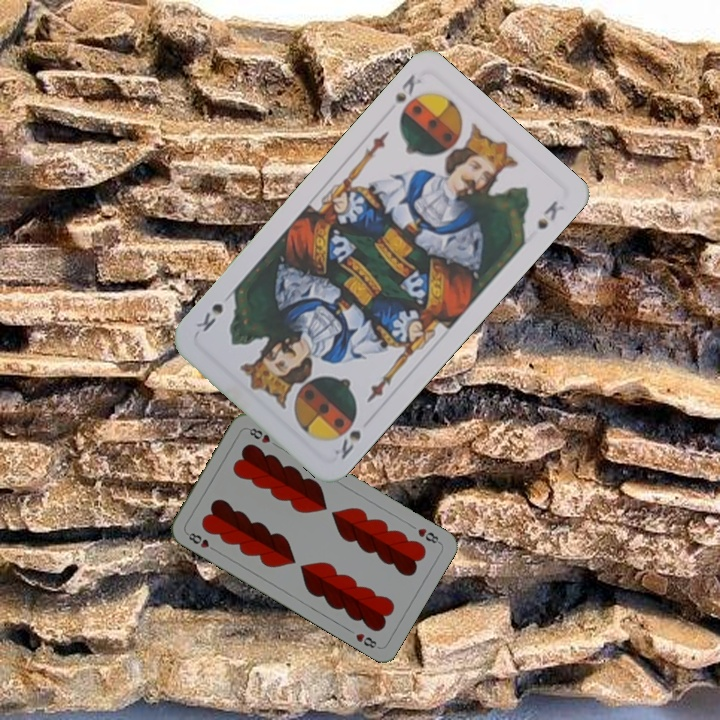H8: (182, 528, 219, 554), (414, 524, 443, 547)
SK: (390, 70, 424, 123), (330, 426, 364, 462)
